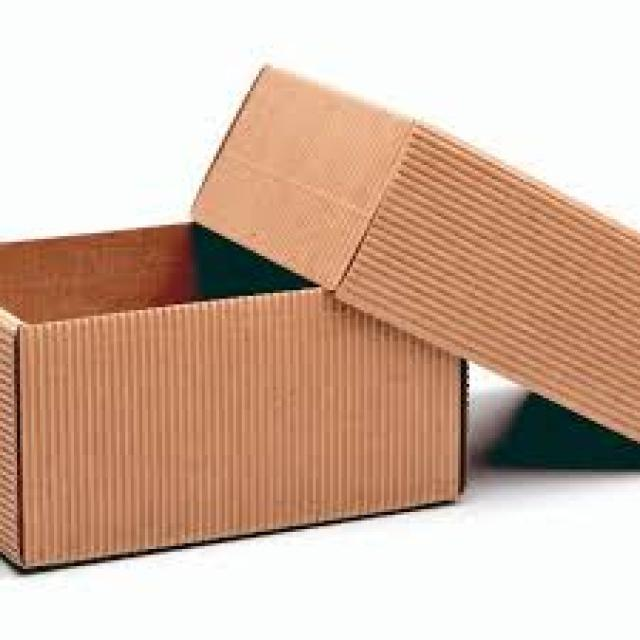Cardboard: (187, 66, 638, 444), (0, 221, 466, 573)
